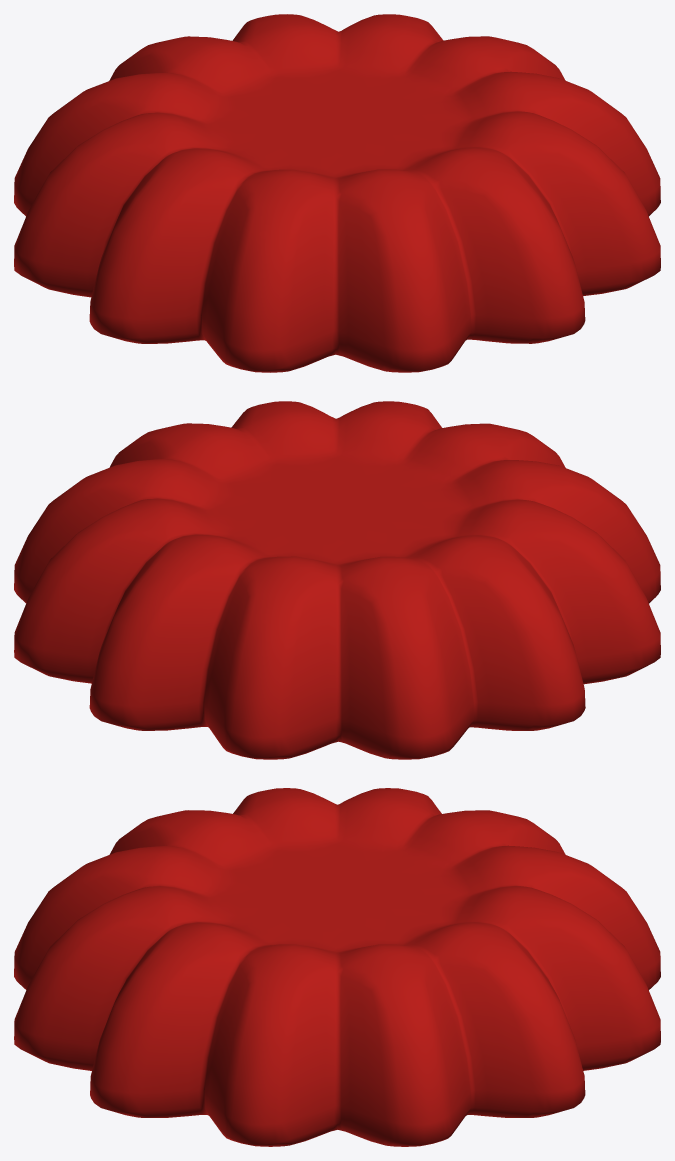
The model's file is Jelly.fbx.
3 renders of one model, top to bottom at view 1: azimuth 30°, elevation 25°; view 2: azimuth 150°, elevation 25°; view 3: azimuth 270°, elevation 25°, orthographic.
Parts seen in each view (by area): view 1: Cylinder; view 2: Cylinder; view 3: Cylinder.
Boxes of the visible parts, <box> form: Cylinder: <box>14,14,660,372</box>; Cylinder: <box>14,401,660,759</box>; Cylinder: <box>14,788,660,1146</box>.
Size of the model in its own units: 4 by 1 by 4.
